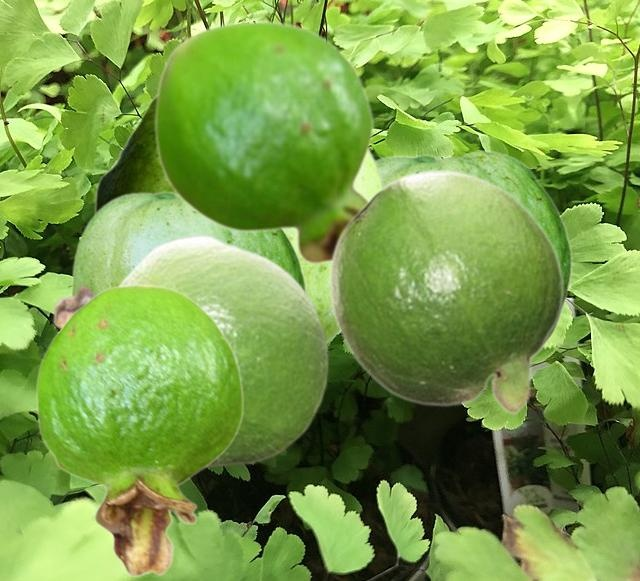guava: (94, 95, 385, 344), (51, 233, 330, 469), (35, 283, 243, 577), (327, 168, 563, 415), (153, 19, 377, 267), (376, 150, 572, 343), (70, 188, 306, 293)
